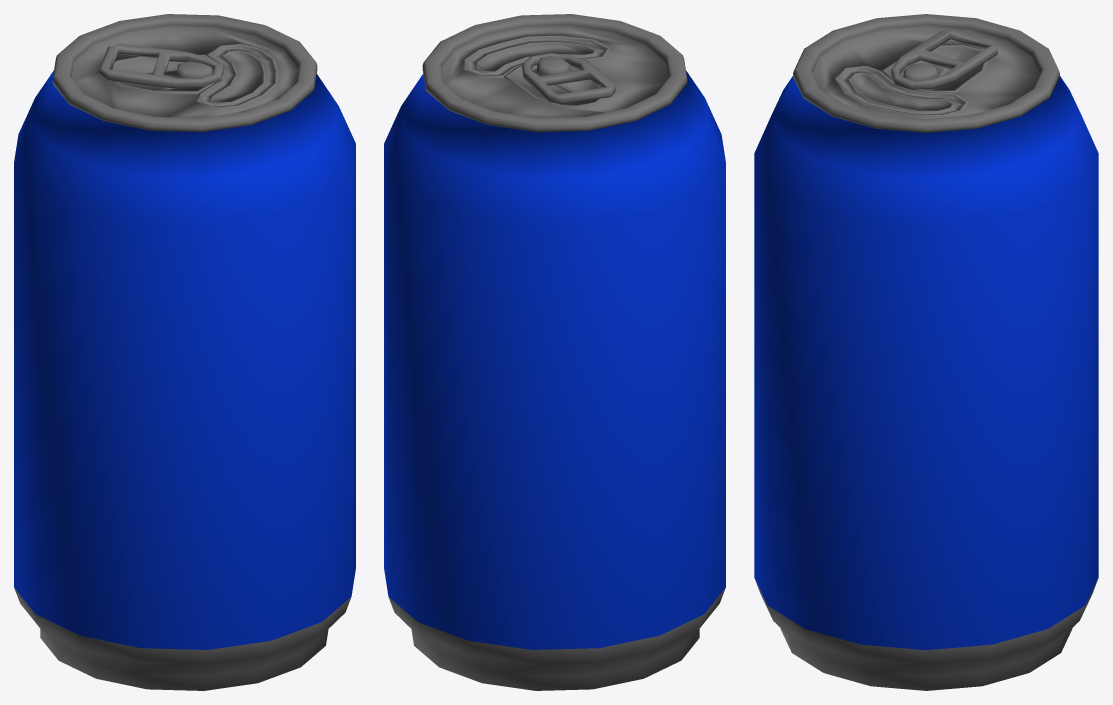
The model's file is SodaCan.fbx.
The picture shows the model from 3 angles, left to right: view 1: azimuth 30°, elevation 25°; view 2: azimuth 150°, elevation 25°; view 3: azimuth 270°, elevation 25°; orthographic projection.
Parts seen in each view (by area): view 1: Cylinder.008; view 2: Cylinder.008; view 3: Cylinder.008.
Boxes of the visible parts, x1=… form: Cylinder.008: x1=14, y1=14, x2=355, y2=690; Cylinder.008: x1=384, y1=14, x2=725, y2=690; Cylinder.008: x1=754, y1=14, x2=1098, y2=690.
Bounding box in the file's own units: 51.21 × 93.13 × 51.21.
